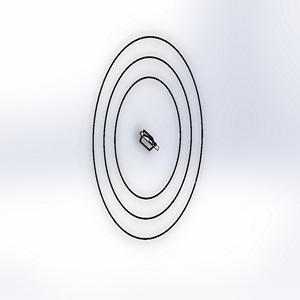circle: (81, 31, 212, 245)
submarine: (132, 123, 166, 158)
